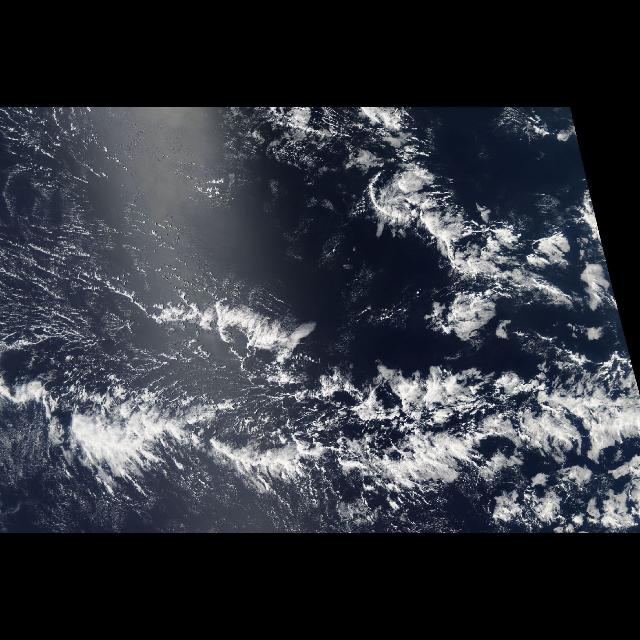Fish: (1, 107, 640, 499)
Sugar: (0, 108, 202, 376)
